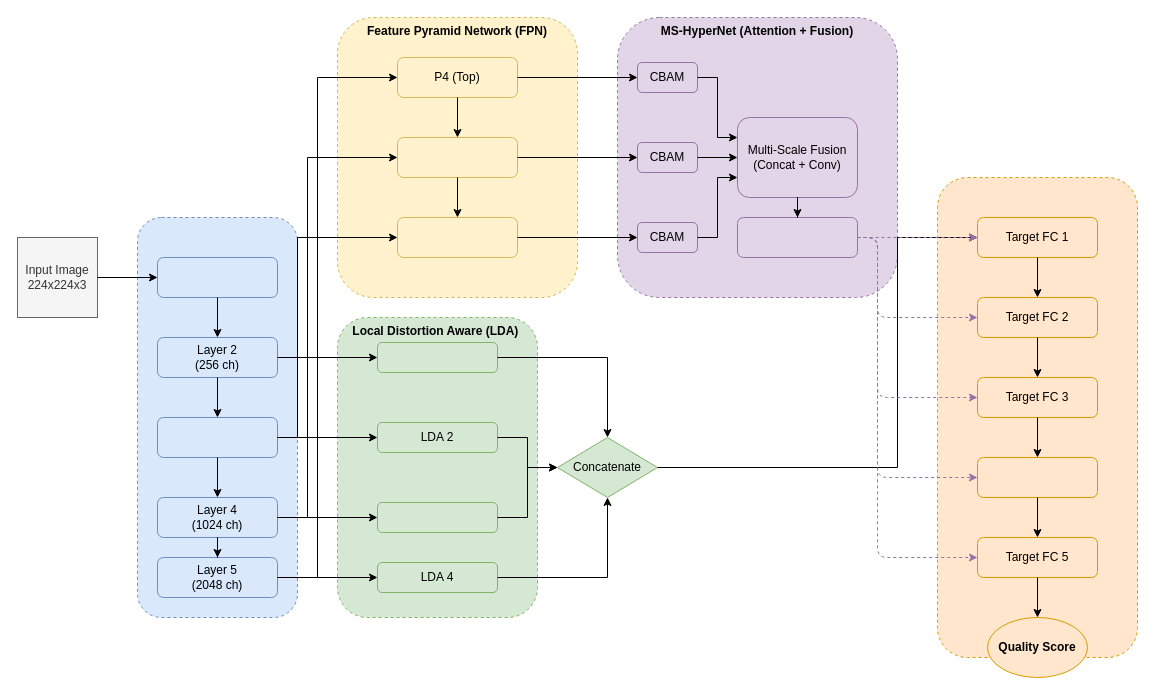
This 1155x695 diagram has some shape labels left out. The shapes that lost their labels are listed below. From the top down, each one's box as (x1, y1, x2, y2) in pixels, then its label:
(396, 136, 518, 178): P3 (Mid)
(396, 216, 518, 258): P2 (Bottom)
(736, 216, 858, 258): Parameter Heads
(156, 256, 278, 298): Layer 1 (64 ch)
(376, 342, 498, 372): LDA 1
(136, 216, 298, 618): ResNet50 Backbone
(156, 416, 278, 458): Layer 3 (512 ch)
(936, 176, 1138, 658): Target Network
(976, 456, 1098, 498): Target FC 4
(376, 502, 498, 532): LDA 3
